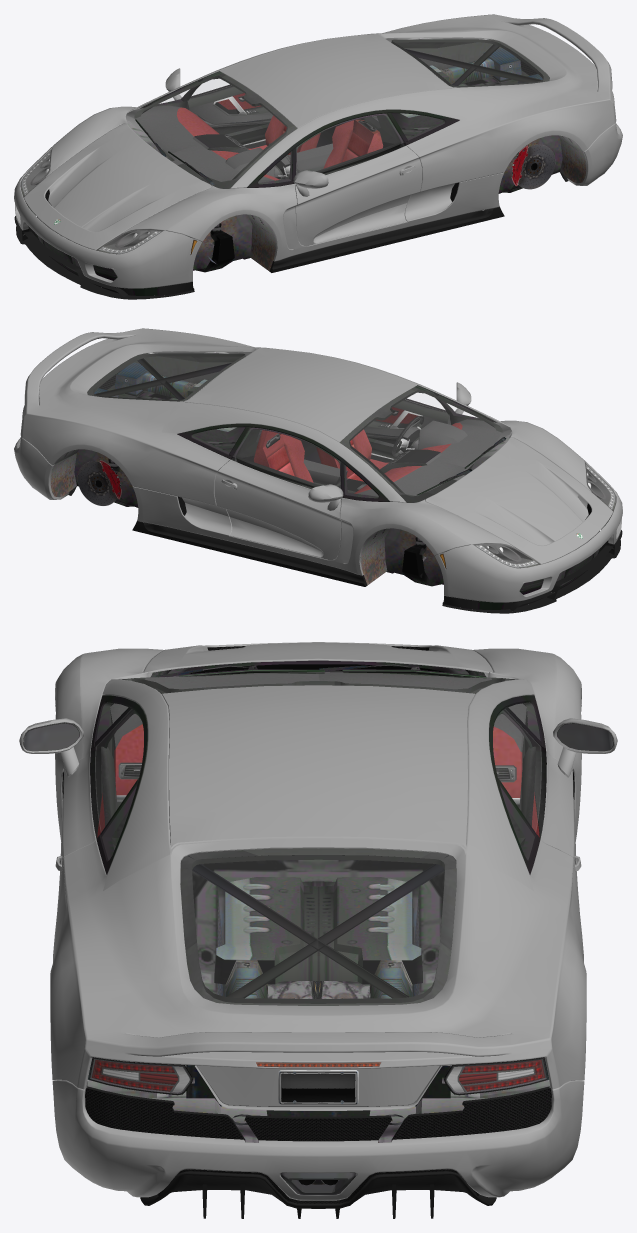
The model's file is furnariscafatigtchassis.glb.
3 renders of one model, top to bottom at view 1: azimuth 30°, elevation 25°; view 2: azimuth 150°, elevation 25°; view 3: azimuth 270°, elevation 25°, orthographic. The views are drawn at different scales.
Visible parts, largest first — view 1: car; view 2: car; view 3: car.
Part boxes in pixels (x1=…): car: x1=14, y1=14, x2=622, y2=299; car: x1=14, y1=328, x2=622, y2=613; car: x1=19, y1=642, x2=617, y2=1218.
Bounding box in the file's own units: 5.38 × 1.25 × 2.58.
Materials: 7 (5 with a texture image).
